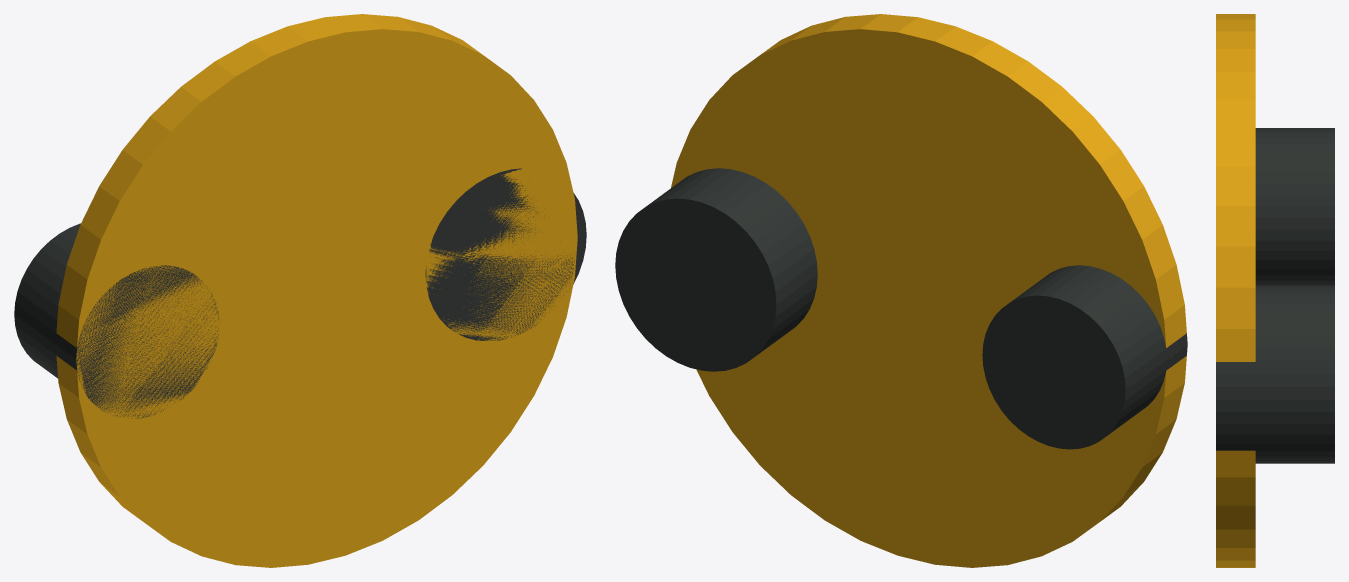
File: turret_link.obj
3 views of the same model, side by side, from view 1: azimuth 30°, elevation 25°; view 2: azimuth 150°, elevation 25°; view 3: azimuth 270°, elevation 25° (orthographic). The views are drawn at different scales.
Parts seen in each view (by area): view 1: disc_0, duckbill_station_2, auger_station_1; view 2: disc_0, auger_station_1, duckbill_station_2; view 3: disc_0, auger_station_1, duckbill_station_2.
Boxes of the visible parts, box(x1,y1,x2,y2) form: disc_0: box(56, 14, 577, 567); duckbill_station_2: box(14, 223, 218, 418); auger_station_1: box(425, 168, 586, 340); disc_0: box(671, 14, 1186, 567); auger_station_1: box(615, 168, 817, 371); duckbill_station_2: box(982, 265, 1187, 449); disc_0: box(1216, 14, 1255, 567); auger_station_1: box(1216, 285, 1334, 463); duckbill_station_2: box(1255, 128, 1334, 285).
Size of the model in its own units: 0.57 by 0.5584 by 0.12.
